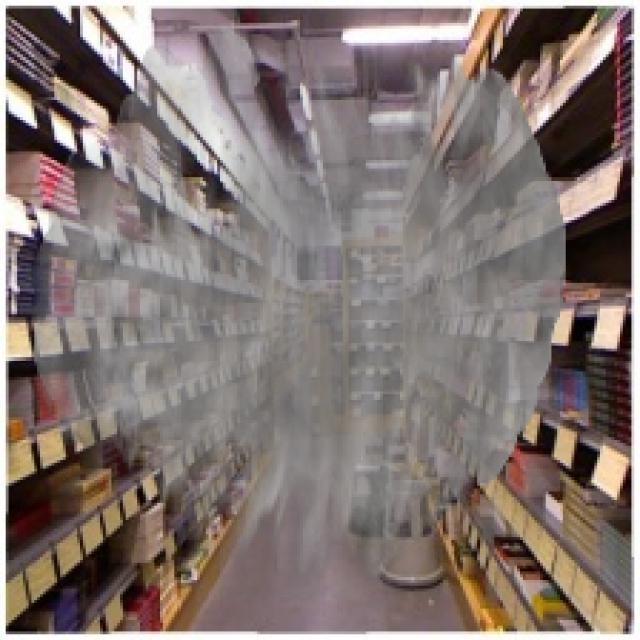Smoke: (31, 22, 566, 588)
